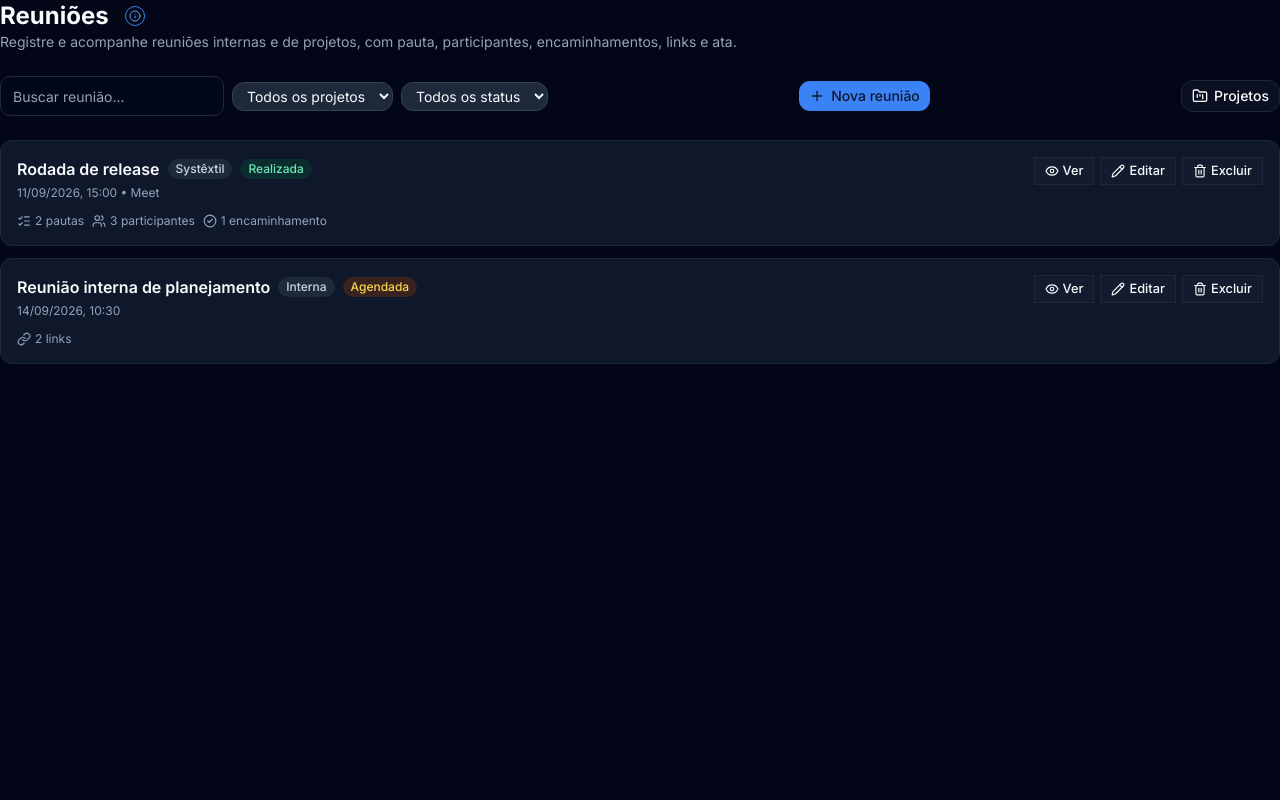
ReunioesPage › visualiza o detalhe da reunião
Expected: the text "Rodada de release" is shown, [17, 157, 160, 181]
Click the button "Ver" in the row of "Realizada": (1064, 171) [1034, 157, 1094, 185]
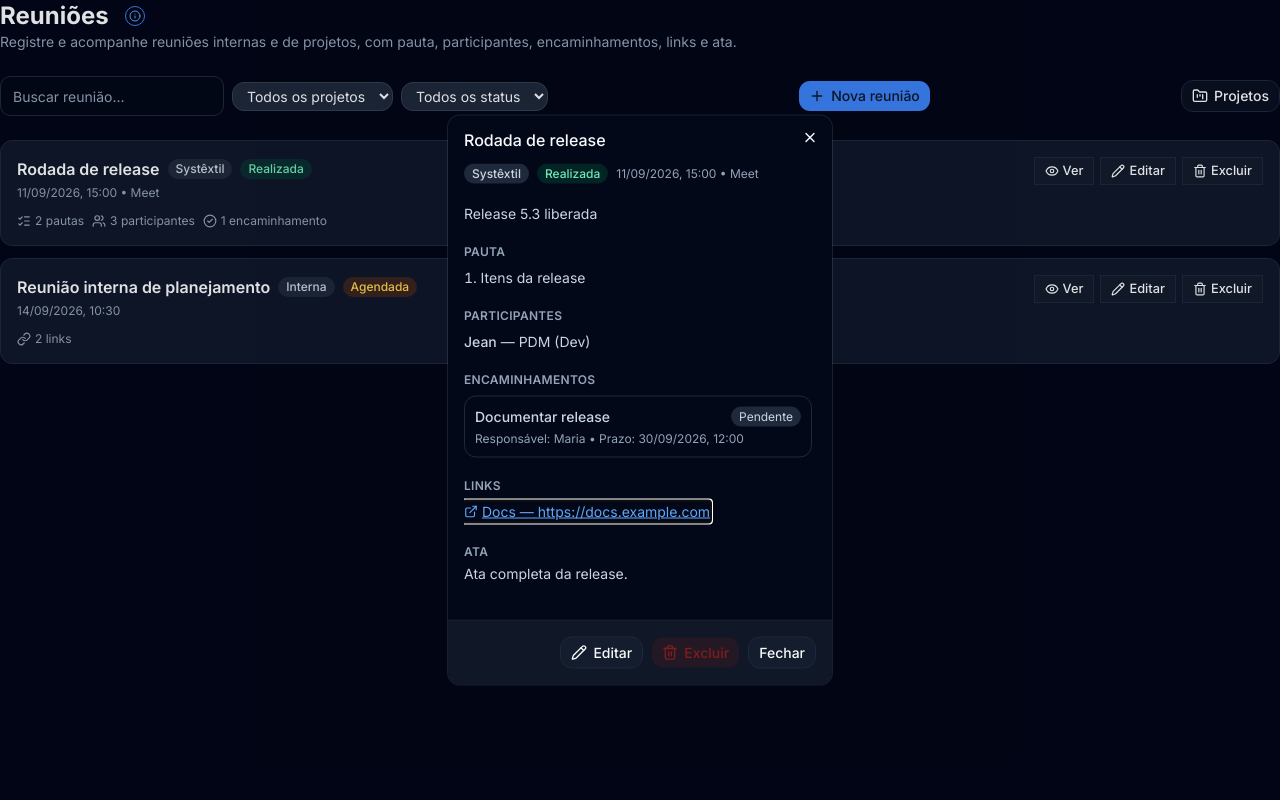
Result: the text "Ata completa da release." is shown at [464, 564, 628, 582]
Result: the text "Jean" is shown at [464, 332, 497, 350]
Result: the text "Documentar release" is shown at [475, 406, 610, 426]
